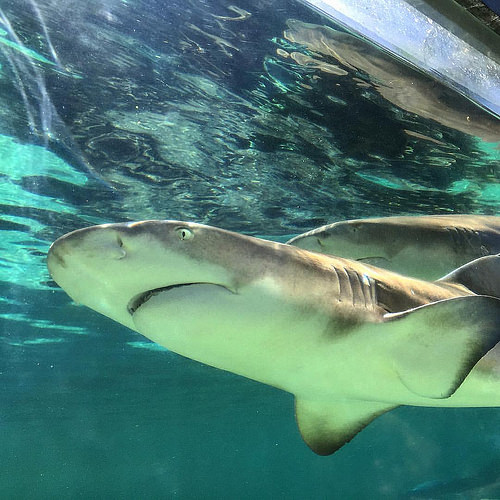shark: (42, 156, 494, 465)
